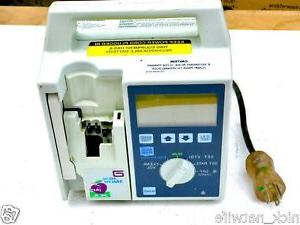plumxl1: (39, 2, 233, 196)
